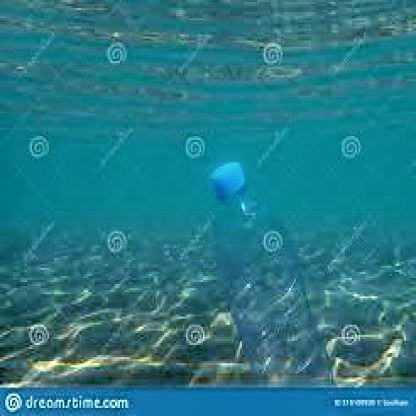pbottle: (196, 152, 342, 388)
